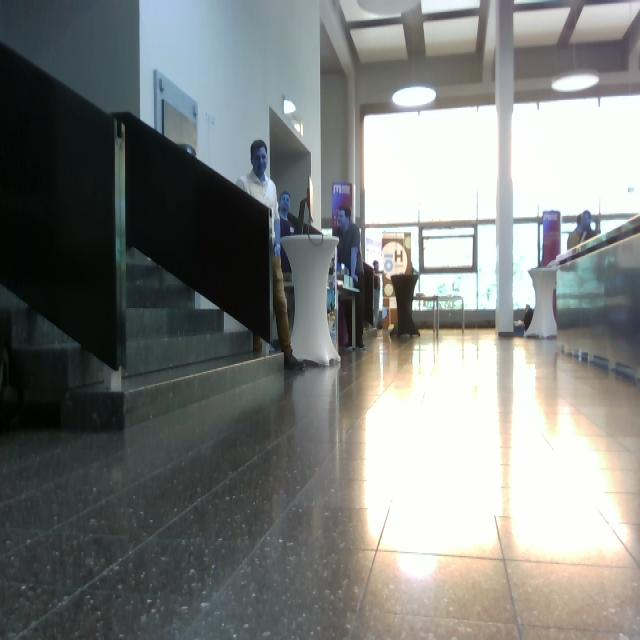door: (112, 110, 256, 377)
light bulb: (392, 9, 437, 109), (551, 44, 600, 93), (551, 70, 600, 93), (357, 1, 421, 17), (392, 86, 437, 108), (179, 144, 197, 157), (283, 99, 296, 115), (293, 121, 303, 136)
person: (236, 140, 306, 372), (335, 205, 367, 352)
pillar: (495, 1, 516, 336)
table: (279, 232, 345, 372)
tiled floor: (1, 324, 639, 638)
